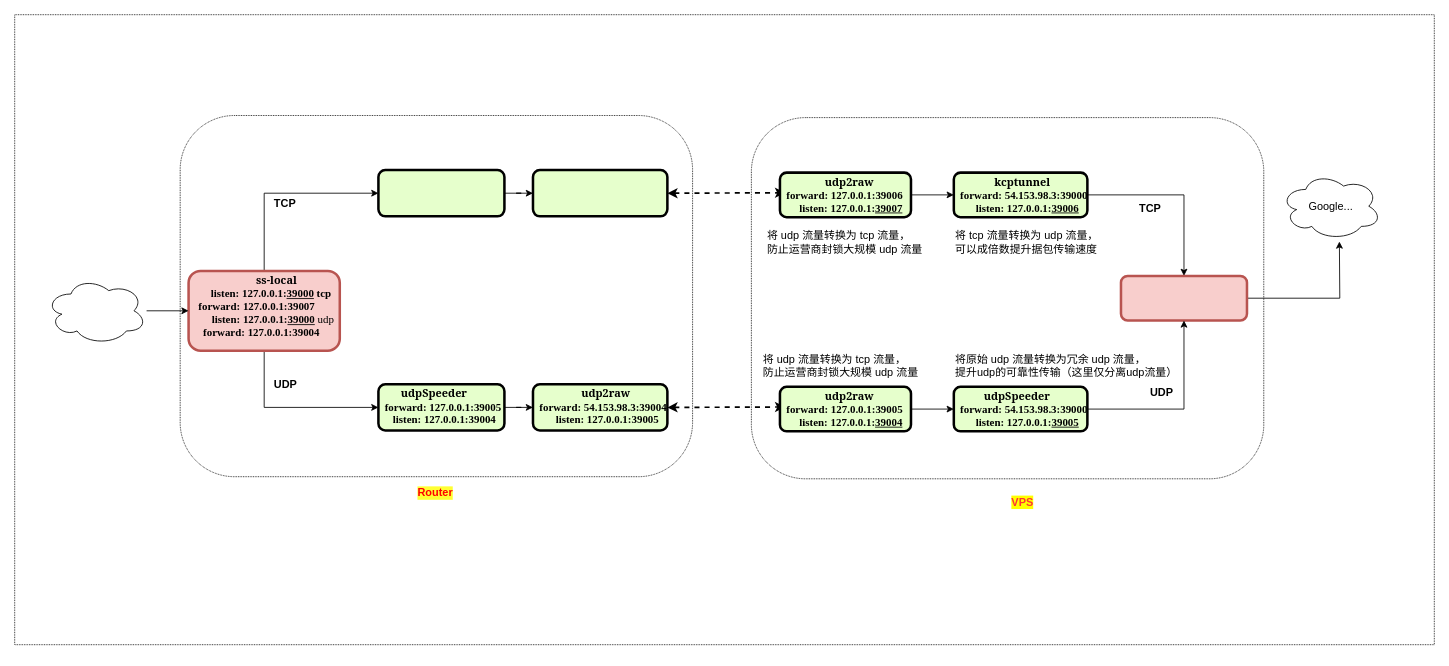
Image size: 1449x666. Some labels were removed from this diagram. Each missing label, with the box of its shape:
kcptunnel forward: 127.0.0.1:39006 listen: 127.0.0.1:39007: (377, 168, 505, 217)
ss-server listen: 127.0.0.1: 39000 tcp+udp: (1119, 274, 1248, 321)
sstap: (45, 276, 147, 344)
udp2raw forward: 54.153.98.3:39007 listen: 127.0.0.1:39006: (531, 168, 668, 217)
